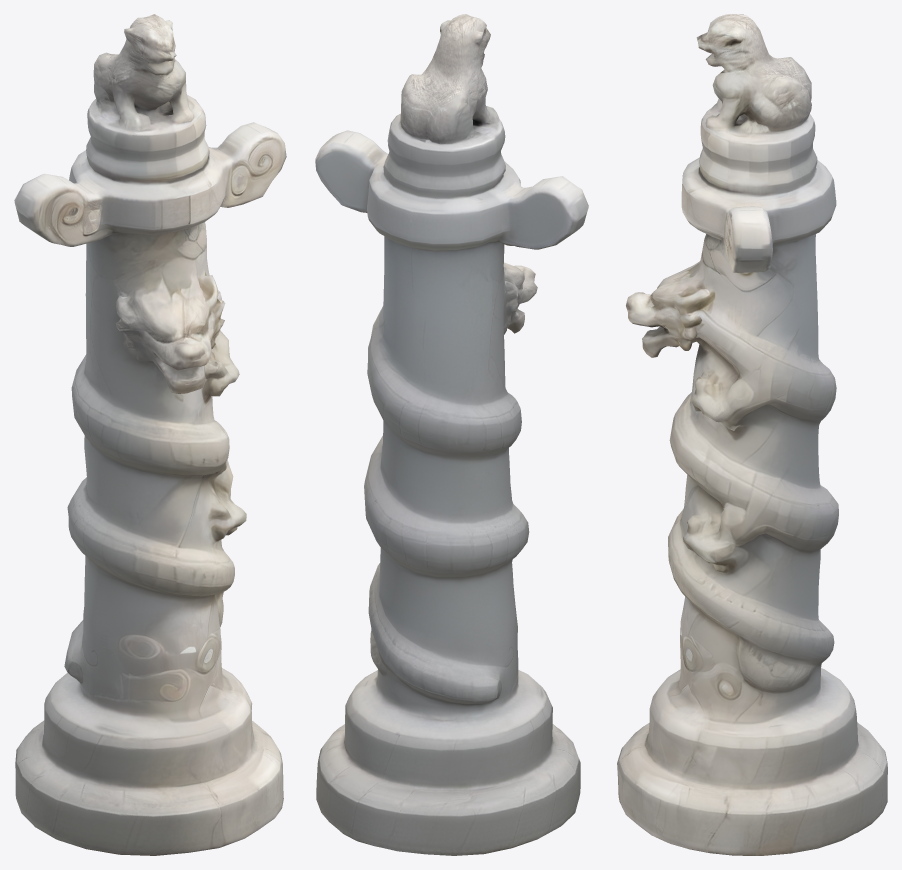
File: huabiao.glb
3 views of the same model, side by side, from view 1: azimuth 30°, elevation 25°; view 2: azimuth 150°, elevation 25°; view 3: azimuth 270°, elevation 25° (orthographic).
Parts seen in each view (by area): view 1: model; view 2: model; view 3: model.
Part boxes in pixels (bbox=[...]): model: bbox=[14, 14, 286, 855]; model: bbox=[315, 14, 588, 855]; model: bbox=[617, 14, 887, 855].
Size of the model in its own units: 0.657 by 1.89 by 0.5948.
Materials: 1 (1 with a texture image).
